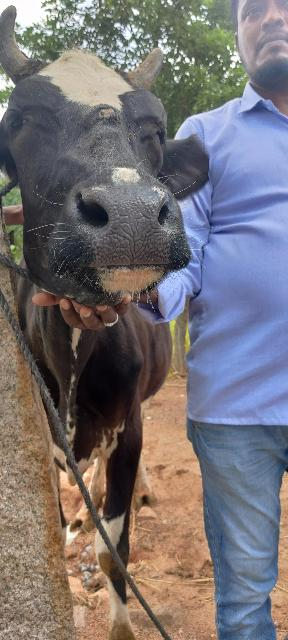Muzzle: (88, 188, 174, 266)
